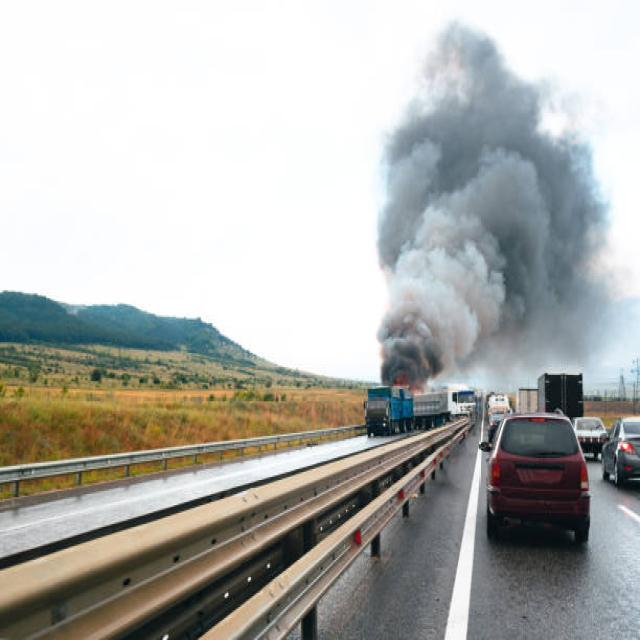Fire: (392, 374, 426, 394)
Smoke: (376, 24, 614, 386)
